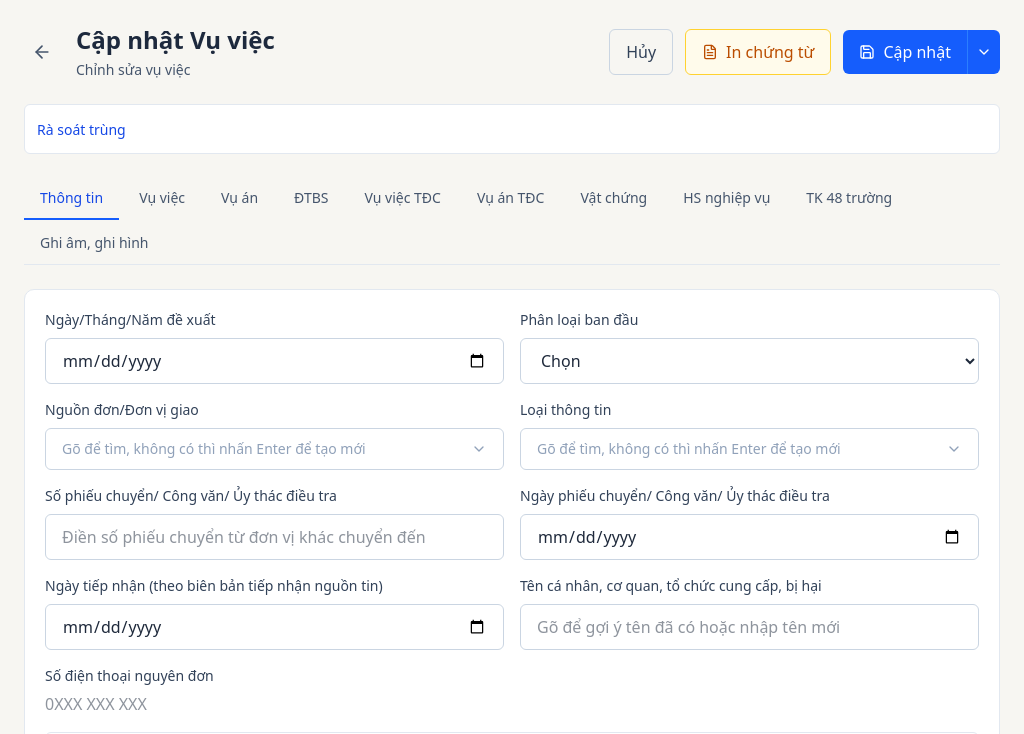
Scenario: IncidentFormPage — xuất chứng từ động (PR3) › split-button top có tuỳ chọn "Lưu và xuất file"
What coordinates should you click on to do the following:
click the button with test id "btn-save-top-caret"
I would click on:
 (984, 52)
Its box is [967,30,1000,74].
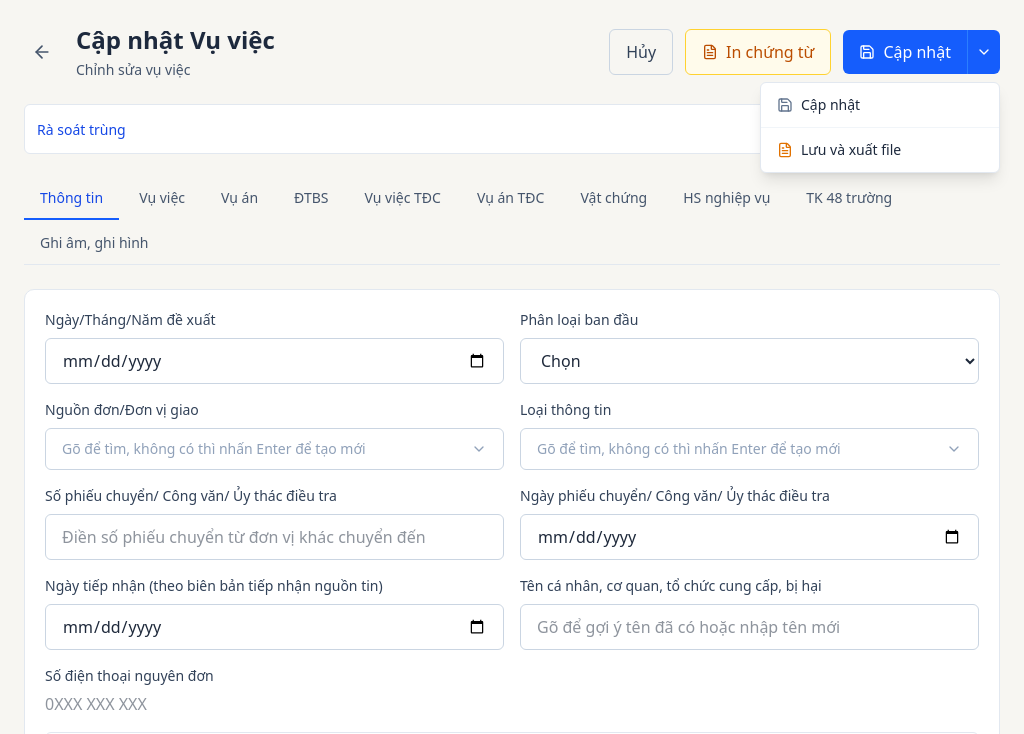
Expected: the menu item with test id "btn-save-top-item-export" is shown, [761,127,999,172]
